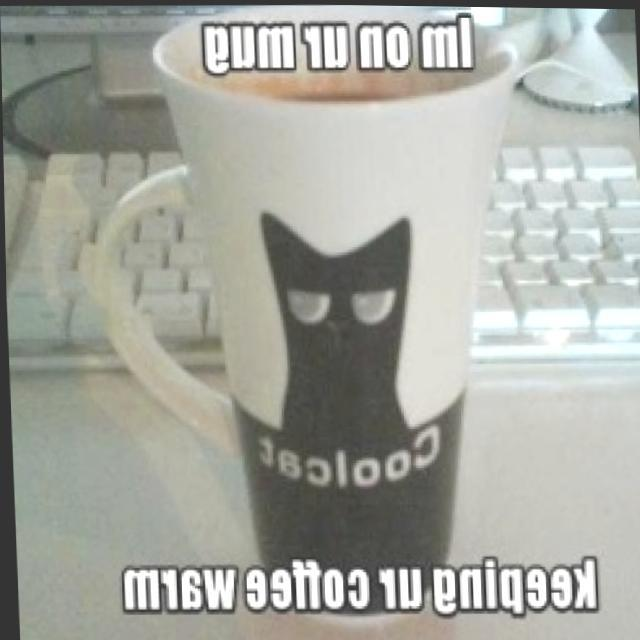cup: (74, 4, 554, 637)
